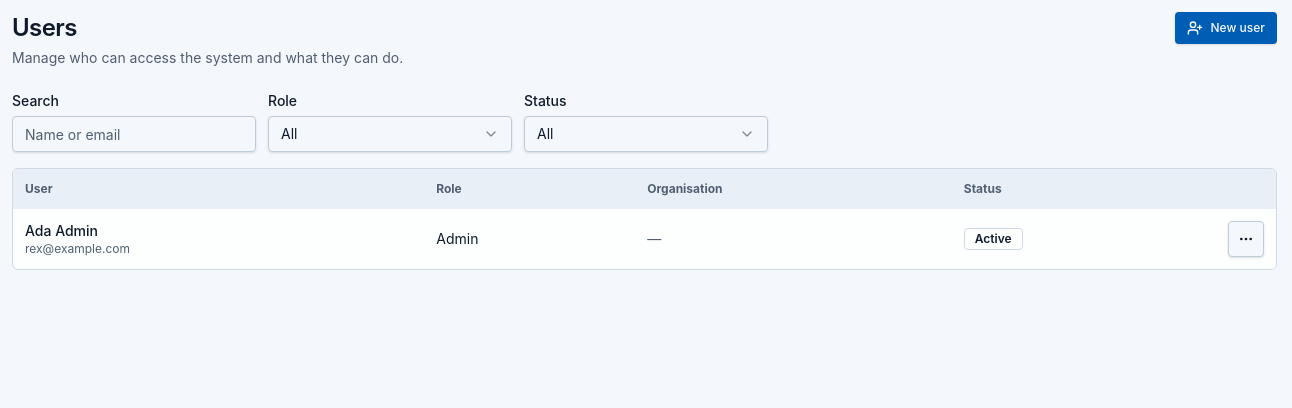
Test: UsersPage › omits Deactivate from the signed-in admin's own menu
Expected: the text "Ada Admin" is shown, [25,222,98,239]
Click the button named "actions for ada admin" at (1246, 239), box [1228,221,1264,257]
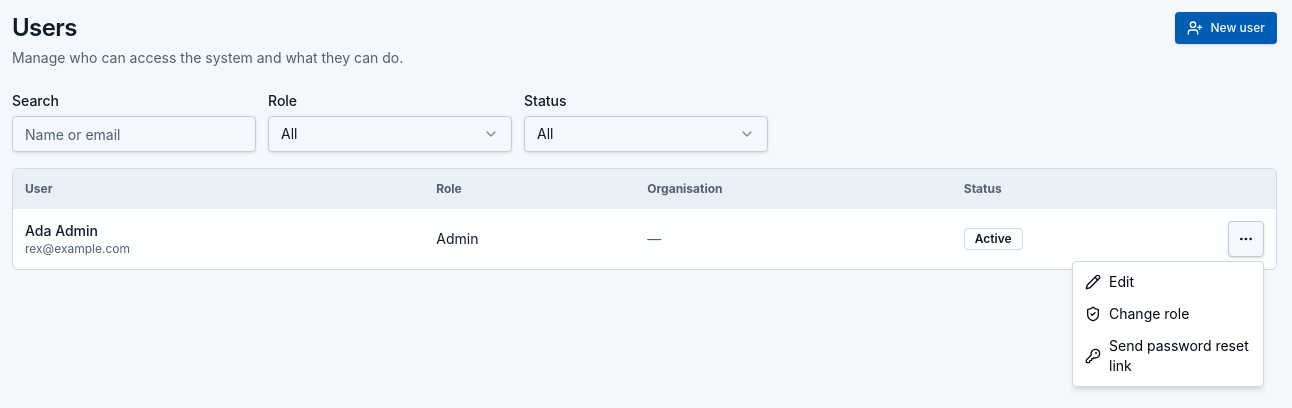
Expected: the menu item "Edit" is shown, [1085,273,1134,290]
